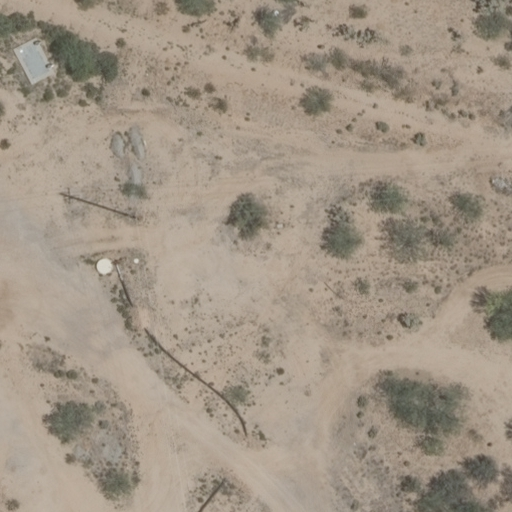DT: (120, 204, 140, 222)
